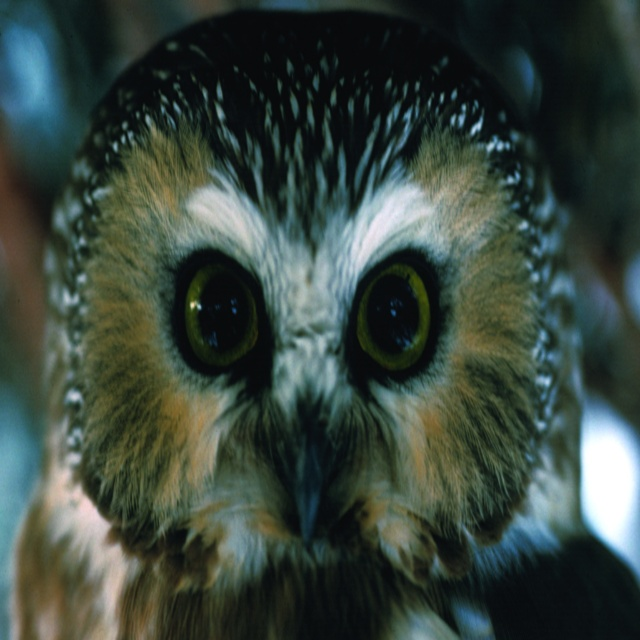Owl: (7, 71, 637, 639)
